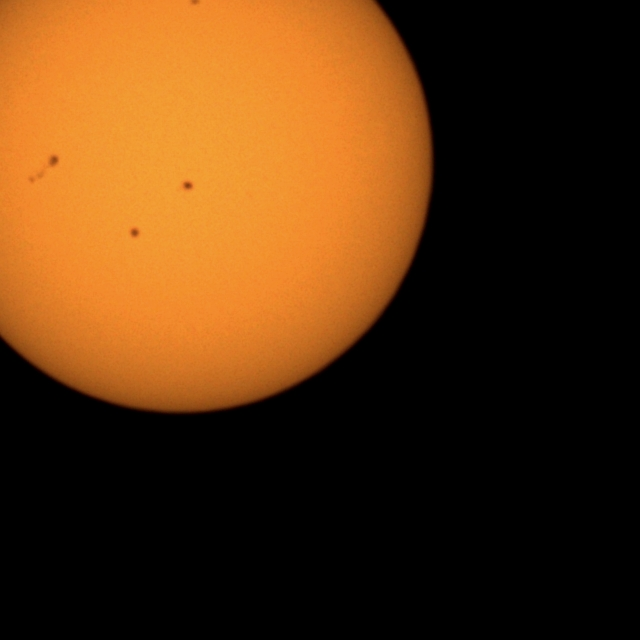sunspot: (27, 154, 60, 184), (46, 153, 61, 170), (180, 179, 195, 192), (128, 226, 141, 240), (188, 0, 202, 7)
